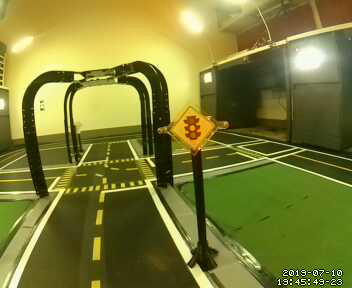Traffic light sign: (167, 106, 218, 151)
